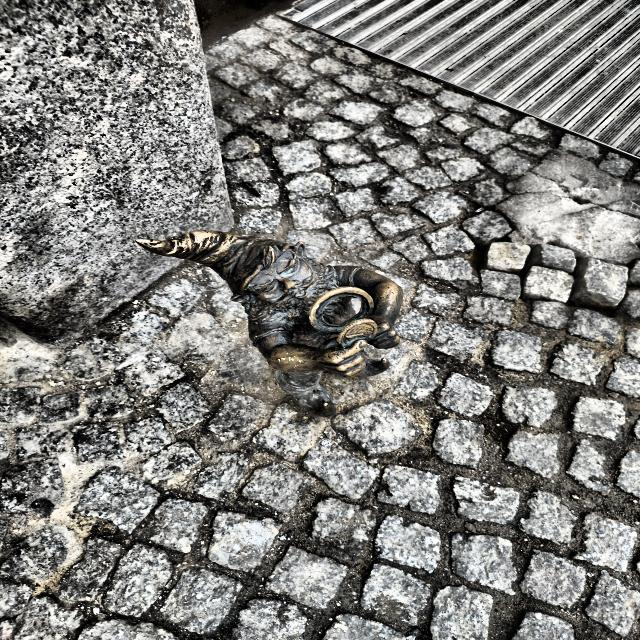Kolekcjoner: (137, 230, 402, 412)
